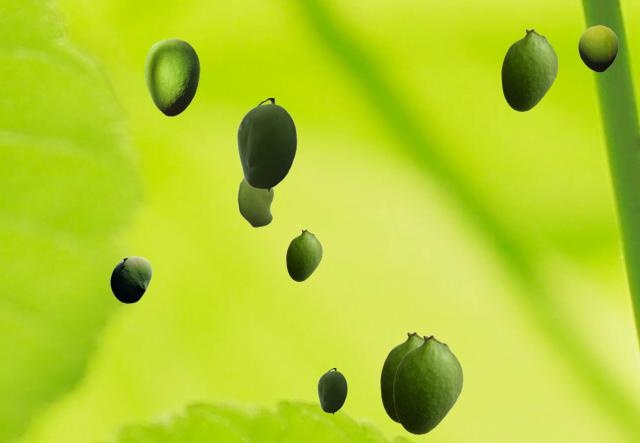green_mango: (393, 334, 462, 433), (236, 98, 296, 193), (501, 28, 557, 110), (144, 38, 199, 115), (380, 331, 422, 422), (110, 256, 151, 302), (578, 25, 617, 71), (286, 229, 321, 280), (237, 178, 273, 227), (317, 368, 346, 414)
